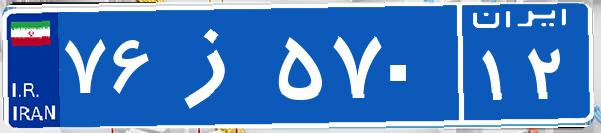0: (385, 28, 445, 110)
1: (475, 38, 525, 113)
2: (525, 38, 570, 115)
5: (273, 28, 330, 110)
6: (110, 28, 158, 105)
7: (330, 28, 385, 110), (57, 26, 110, 107)
ز: (158, 15, 273, 115)
